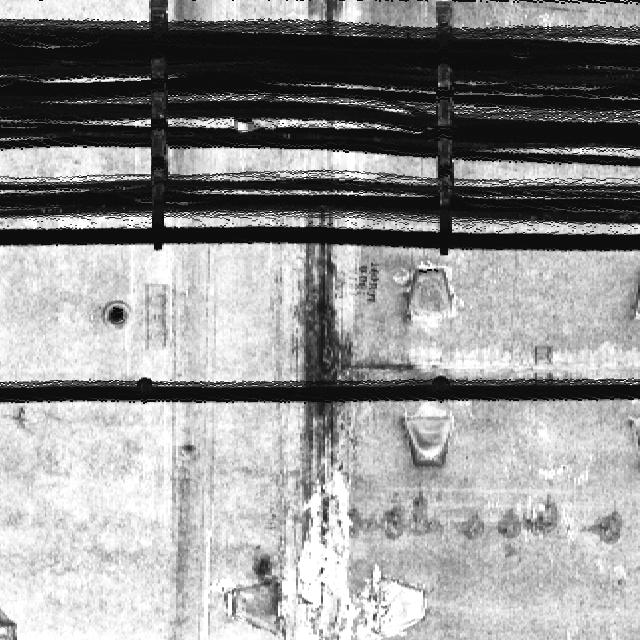leakage: (275, 230, 360, 640)
